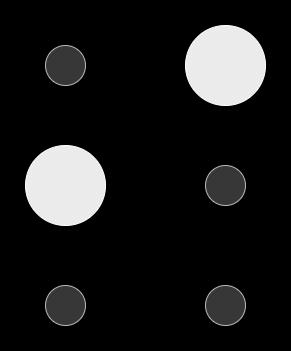I: (18, 18, 273, 334)
